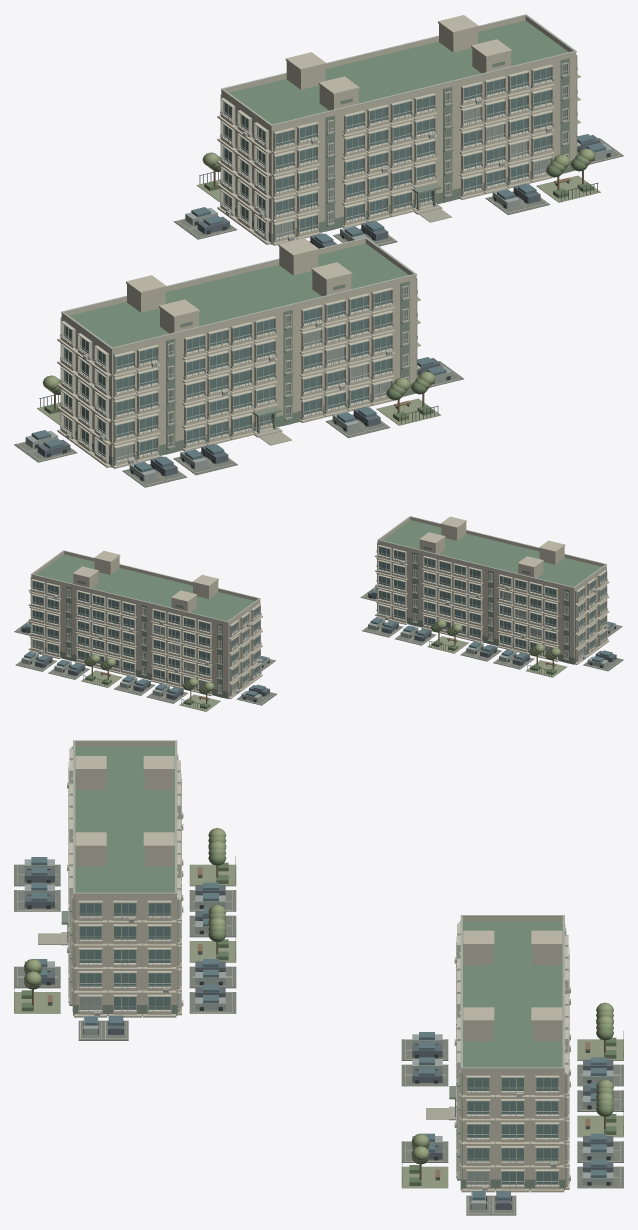
The model's file is old-1.glb.
3 renders of one model, top to bottom at view 1: azimuth 30°, elevation 25°; view 2: azimuth 150°, elevation 25°; view 3: azimuth 270°, elevation 25°, orthographic. The views are drawn at different scales.
Visible parts, largest first — view 1: korean-facade-parts-d1d0bf, korean-facade-parts-cac6b4, korean-facade-surface-718b87, old-1, korean-facade-surface-cac6b4, korean-facade-parts-8c9b8b, korean-facade-parts-8f9b97, korean-facade-parts-858b82, korean-facade-parts-b8bcb2, korean-facade-parts-6c858b, korean-facade-surface-9eaaa4, korean-facade-parts-6b787e (+7 smaller); view 2: korean-facade-parts-d1d0bf, korean-facade-parts-cac6b4, korean-facade-surface-718b87, old-1, korean-facade-surface-cac6b4, korean-facade-parts-8c9b8b, korean-facade-parts-858b82, korean-facade-parts-8f9b97, korean-facade-parts-b8bcb2, korean-facade-parts-6c858b, korean-facade-parts-a5b1ab, korean-facade-parts-9ba48a (+10 smaller); view 3: old-1, korean-facade-parts-cac6b4, korean-facade-parts-d1d0bf, korean-facade-surface-718b87, korean-facade-parts-858b82, korean-facade-surface-cac6b4, korean-facade-parts-9ba48a, korean-facade-parts-6c858b, korean-facade-parts-a5b1ab, korean-facade-parts-6b787e, korean-facade-parts-b8bcb2, korean-facade-parts-8c9b8b (+7 smaller).
Part boxes in pixels (left/top/right/bottom): korean-facade-parts-d1d0bf: left=60, top=55, right=576, bottom=463; korean-facade-parts-cac6b4: left=57, top=15, right=580, bottom=468; korean-facade-surface-718b87: left=64, top=64, right=567, bottom=456; old-1: left=69, top=20, right=568, bottom=467; korean-facade-surface-cac6b4: left=61, top=56, right=576, bottom=456; korean-facade-parts-8c9b8b: left=60, top=55, right=577, bottom=467; korean-facade-parts-8f9b97: left=60, top=67, right=577, bottom=463; korean-facade-parts-858b82: left=14, top=138, right=623, bottom=487; korean-facade-parts-b8bcb2: left=61, top=14, right=576, bottom=349; korean-facade-parts-6c858b: left=31, top=134, right=606, bottom=472; korean-facade-surface-9eaaa4: left=64, top=92, right=550, bottom=460; korean-facade-parts-6b787e: left=37, top=135, right=600, bottom=476; korean-facade-parts-d1d0bf: left=30, top=542, right=607, bottom=694; korean-facade-parts-cac6b4: left=28, top=516, right=609, bottom=699; korean-facade-surface-718b87: left=32, top=546, right=605, bottom=692; old-1: left=36, top=520, right=601, bottom=621; korean-facade-surface-cac6b4: left=31, top=543, right=606, bottom=691; korean-facade-parts-8c9b8b: left=31, top=544, right=597, bottom=698; korean-facade-parts-858b82: left=14, top=586, right=623, bottom=705; korean-facade-parts-8f9b97: left=31, top=550, right=607, bottom=693; korean-facade-parts-b8bcb2: left=30, top=516, right=607, bottom=622; korean-facade-parts-6c858b: left=24, top=589, right=613, bottom=696; korean-facade-parts-a5b1ab: left=21, top=587, right=616, bottom=702; korean-facade-parts-9ba48a: left=81, top=636, right=567, bottom=711; old-1: left=75, top=746, right=562, bottom=1067; korean-facade-parts-cac6b4: left=68, top=742, right=569, bottom=1192; korean-facade-parts-d1d0bf: left=69, top=748, right=568, bottom=1186; korean-facade-surface-718b87: left=79, top=903, right=558, bottom=1184; korean-facade-parts-858b82: left=14, top=864, right=623, bottom=1215; korean-facade-surface-cac6b4: left=73, top=898, right=564, bottom=1179; korean-facade-parts-9ba48a: left=14, top=864, right=623, bottom=1188; korean-facade-parts-6c858b: left=31, top=857, right=606, bottom=1200; korean-facade-parts-a5b1ab: left=24, top=859, right=613, bottom=1209; korean-facade-parts-6b787e: left=24, top=870, right=613, bottom=1209; korean-facade-parts-b8bcb2: left=73, top=740, right=564, bottom=1068; korean-facade-parts-8c9b8b: left=61, top=746, right=566, bottom=1190.
Bounding box in the file's own units: 104 × 17.75 × 70.8.
